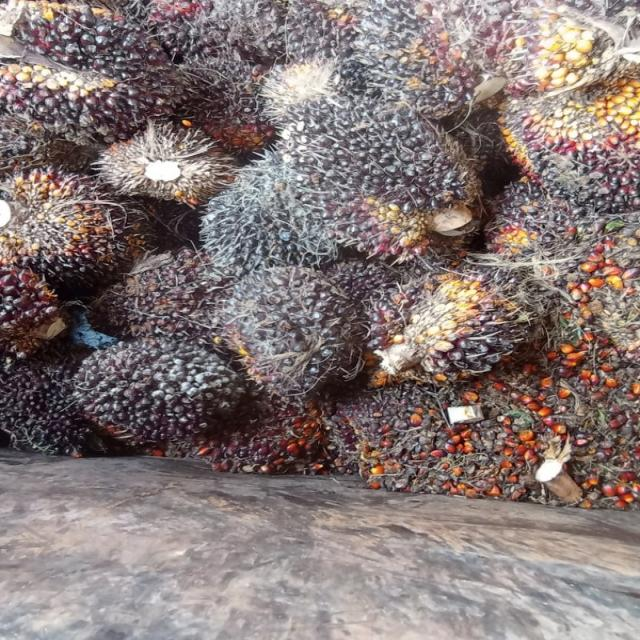fraksi 00: (338, 0, 628, 110), (268, 97, 468, 249), (0, 0, 189, 138), (194, 170, 367, 288), (485, 80, 640, 208), (366, 268, 535, 385), (215, 268, 358, 396), (0, 163, 143, 279), (72, 334, 222, 444), (6, 358, 113, 458)
